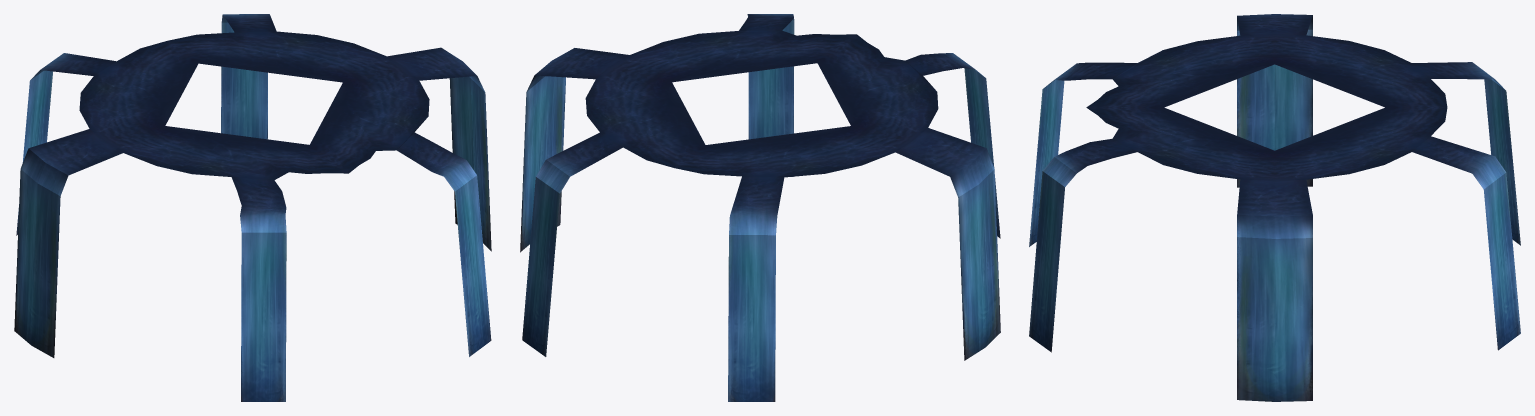
The model's file is bowen.FBX.
3 views of the same model, side by side, from view 1: azimuth 30°, elevation 25°; view 2: azimuth 150°, elevation 25°; view 3: azimuth 270°, elevation 25° (orthographic).
Parts seen in each view (by area): view 1: Object03; view 2: Object03; view 3: Object03.
Boxes of the visible parts, <box> form: Object03: <box>14,14,491,401</box>; Object03: <box>520,14,1000,401</box>; Object03: <box>1029,14,1520,401</box>.
Bounding box in the file's own units: 1920 × 771 × 1846.
Materials: 1 (1 with a texture image).
